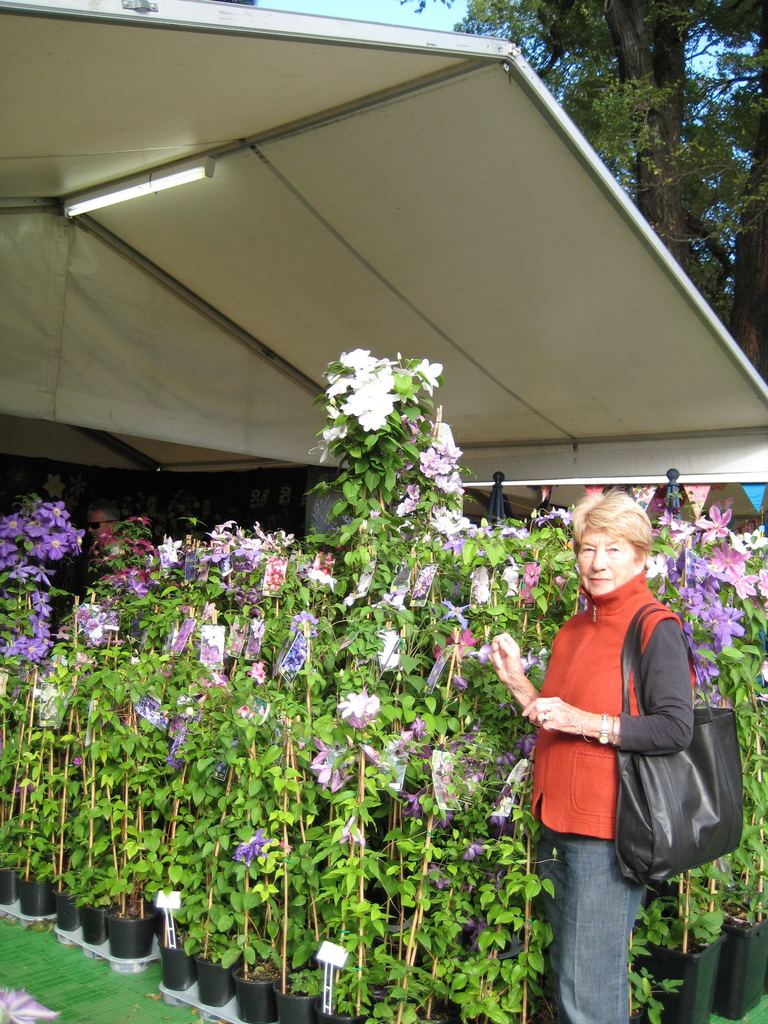Tree: (393, 0, 768, 385)
